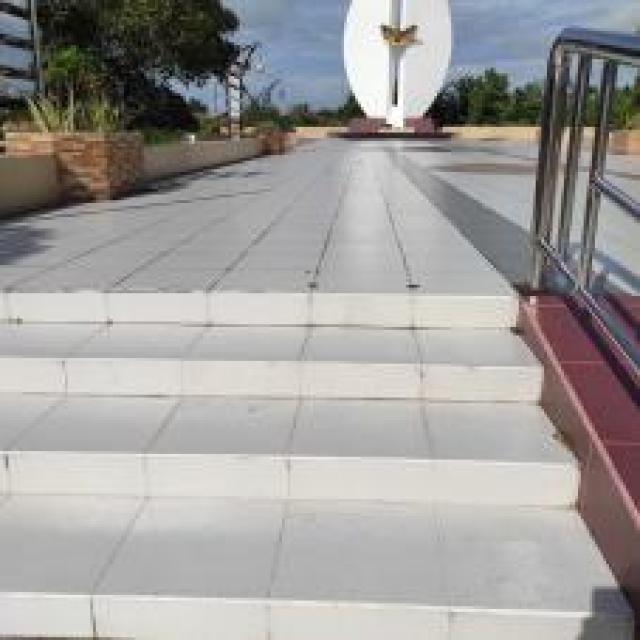upstair: (5, 279, 624, 640)
